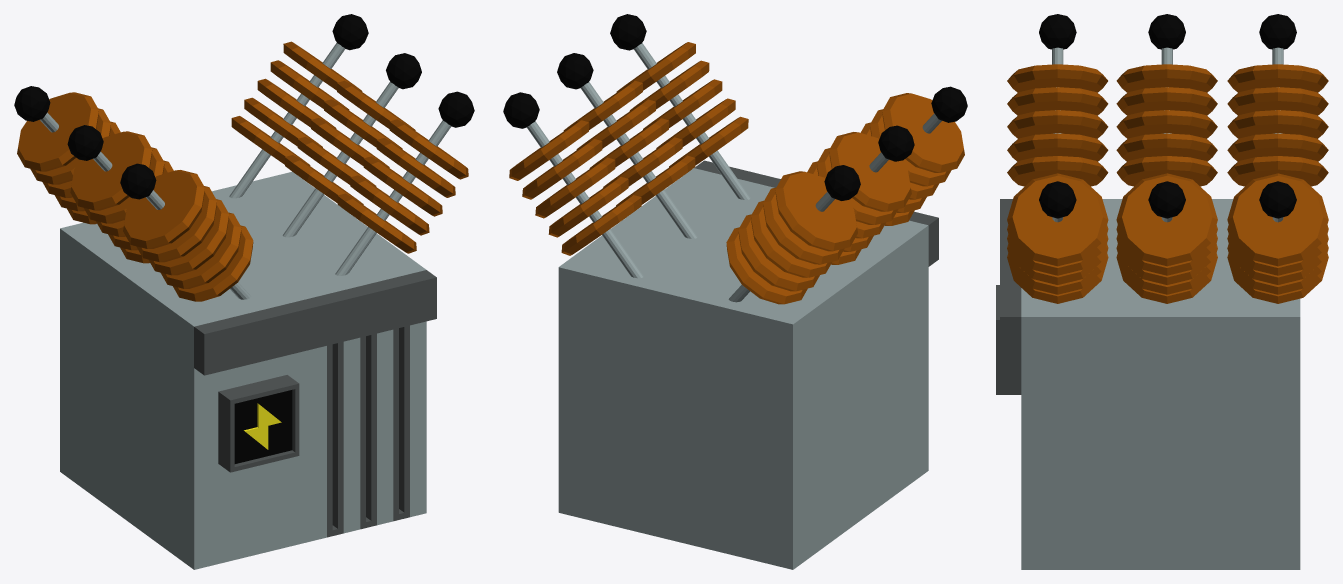
File: Transformer.fbx
3 renders of one model, left to right at view 1: azimuth 30°, elevation 25°; view 2: azimuth 150°, elevation 25°; view 3: azimuth 270°, elevation 25°, orthographic. The views are drawn at different scales.
Visible parts, largest first — view 1: Transformer; view 2: Transformer; view 3: Transformer.
Part boxes in pixels (x1,y1,x2,y2): Transformer: [14, 14, 474, 569]; Transformer: [503, 14, 967, 569]; Transformer: [996, 14, 1328, 569].
Size of the model in its own units: 775 by 852 by 615.
